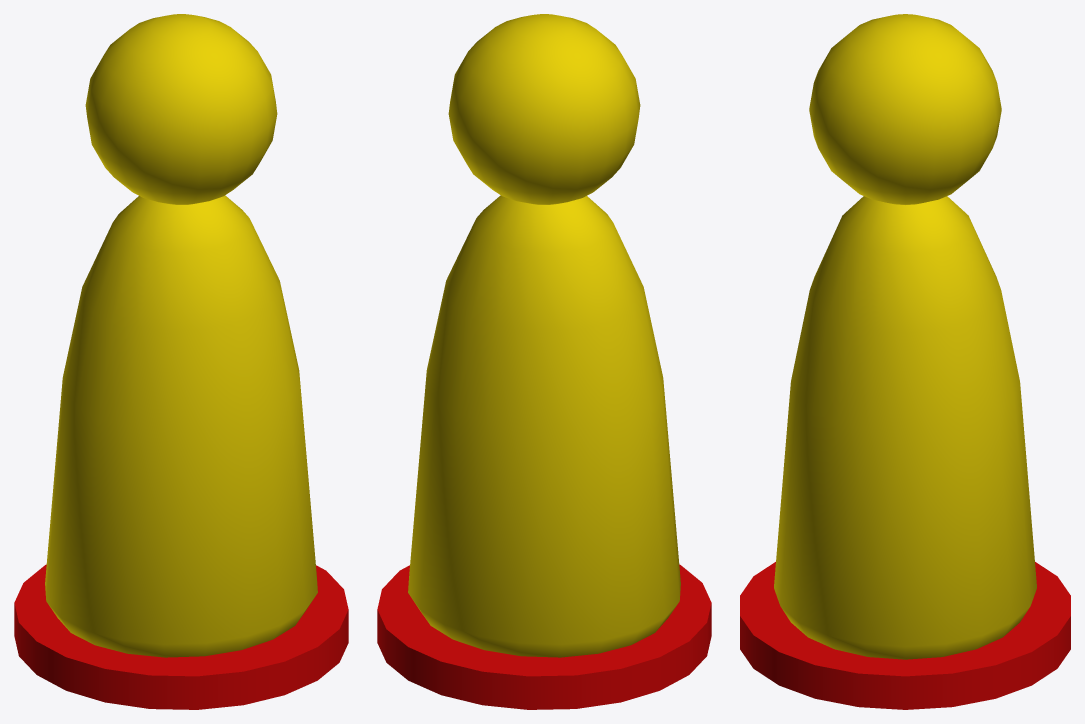
The model's file is danbinghuang2.gltf.
The picture shows the model from 3 angles, left to right: view 1: azimuth 30°, elevation 25°; view 2: azimuth 150°, elevation 25°; view 3: azimuth 270°, elevation 25°; orthographic projection.
Parts seen in each view (by area): view 1: Sphere001, Sphere002, Cylinder001; view 2: Sphere001, Sphere002, Cylinder001; view 3: Sphere001, Sphere002, Cylinder001.
Part boxes in pixels (left/top/right/bottom): Sphere001: left=45, top=195, right=317, bottom=657; Sphere002: left=85, top=14, right=277, bottom=204; Cylinder001: left=14, top=564, right=348, bottom=709; Sphere001: left=408, top=195, right=680, bottom=657; Sphere002: left=448, top=14, right=640, bottom=204; Cylinder001: left=377, top=564, right=711, bottom=709; Sphere001: left=774, top=196, right=1036, bottom=659; Sphere002: left=809, top=14, right=1001, bottom=204; Cylinder001: left=740, top=562, right=1070, bottom=709.
Bounding box in the file's own units: 54.22 × 110 × 53.67.
